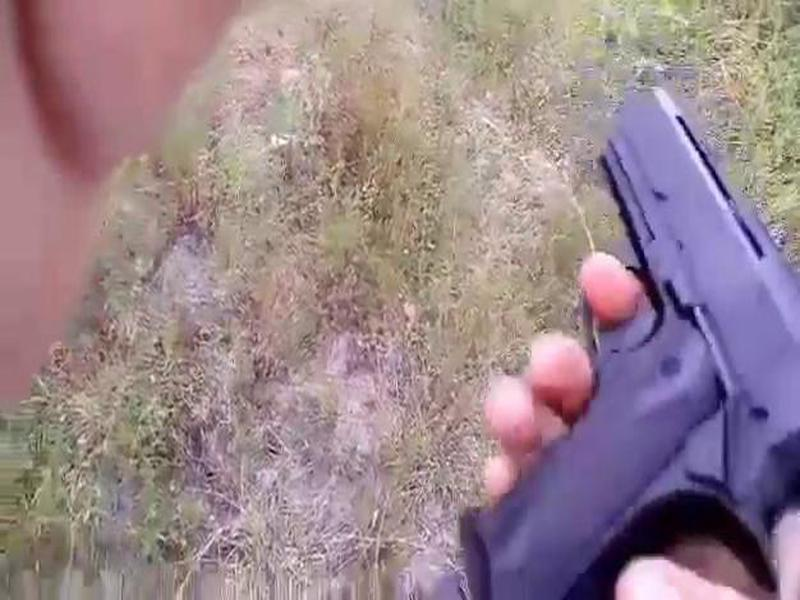Pistola: (468, 77, 798, 600)
